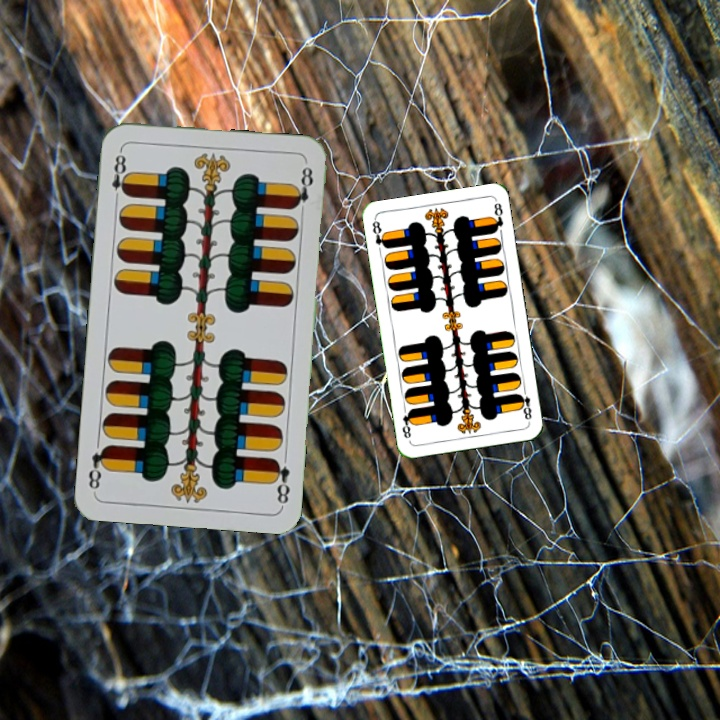E8: (108, 146, 132, 205), (268, 454, 293, 508), (368, 216, 390, 251), (514, 384, 534, 422)
